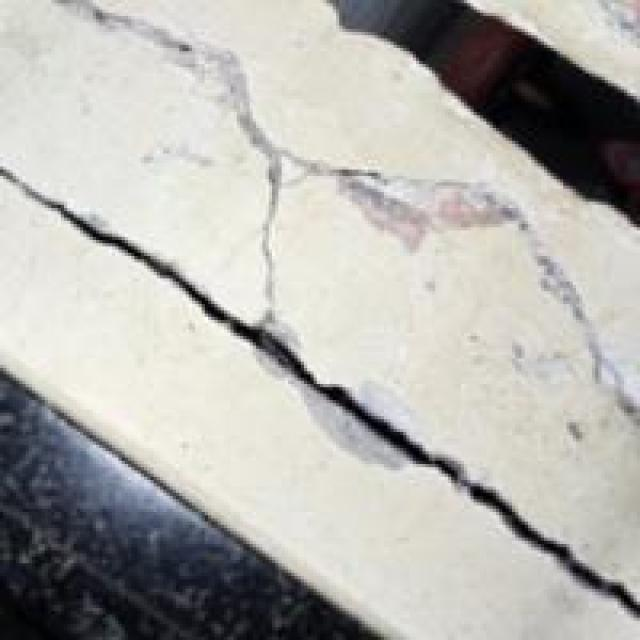crack: (3, 48, 624, 576)
